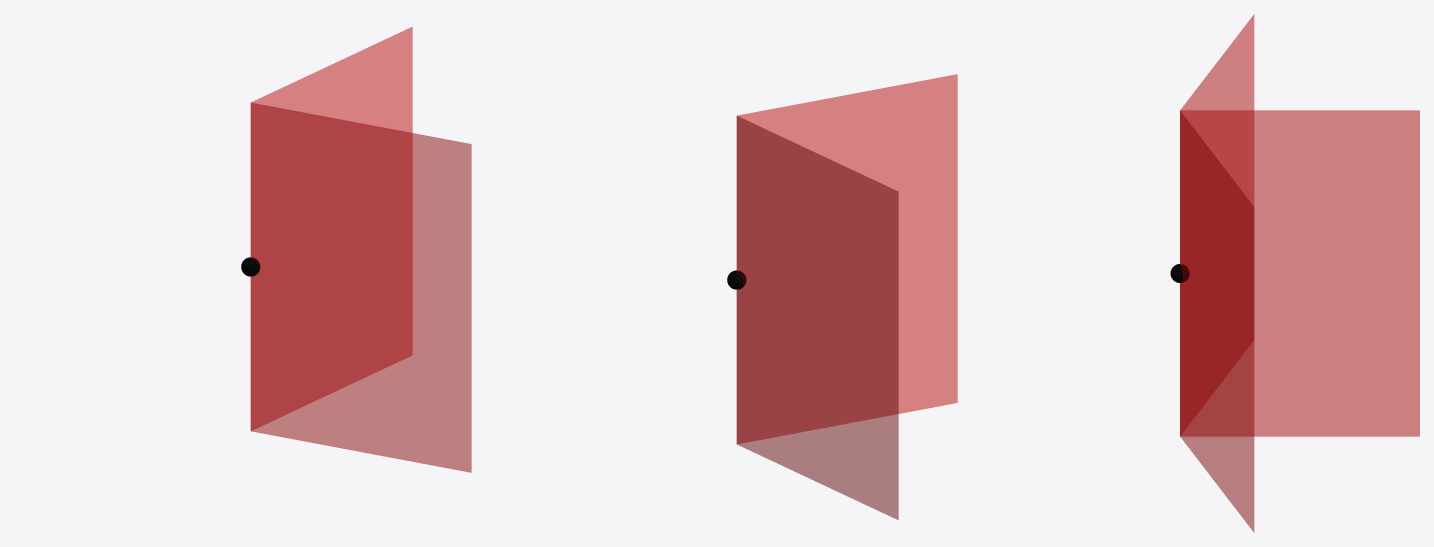
Rendered from 5foldnbhd.glb.
3 renders of one model, left to right at view 1: azimuth 30°, elevation 25°; view 2: azimuth 150°, elevation 25°; view 3: azimuth 270°, elevation 25°, orthographic.
Parts seen in each view (by area): view 1: Circle; view 2: Circle; view 3: Circle.
Part boxes in pixels (x1=…): Circle: x1=250, y1=27, x2=471, y2=472; Circle: x1=736, y1=74, x2=957, y2=519; Circle: x1=1180, y1=14, x2=1419, y2=532.
Bounding box in the file's own units: 1.9 × 1.5 × 1.81.
